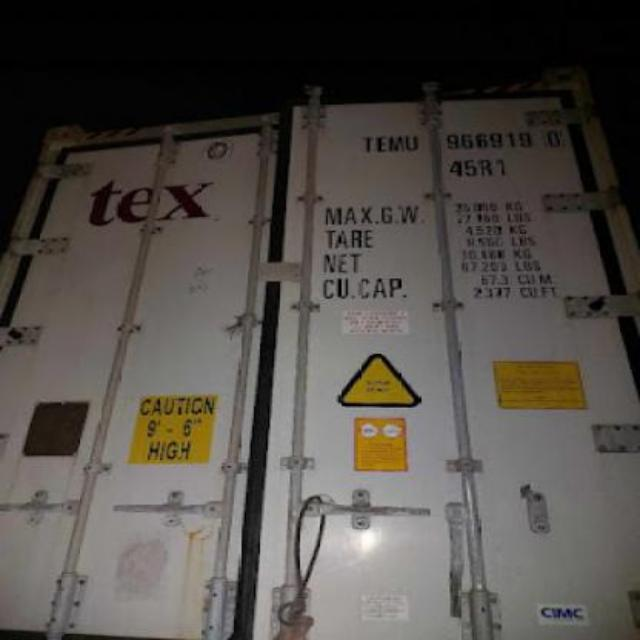0: (544, 126, 562, 150)
1: (504, 126, 518, 152)
6: (461, 126, 474, 152), (476, 126, 489, 152)
9: (518, 126, 534, 156), (446, 127, 459, 153), (491, 125, 504, 151)
E: (374, 132, 388, 156)
M: (388, 130, 402, 160)
T: (362, 130, 374, 160)
U: (404, 128, 420, 156)
